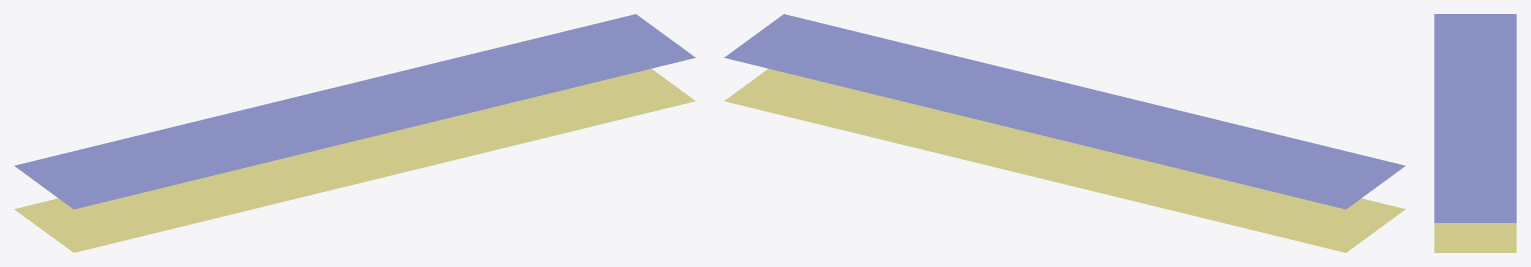
The model's file is In_3x½_Floor.FBX.
3 renders of one model, left to right at view 1: azimuth 30°, elevation 25°; view 2: azimuth 150°, elevation 25°; view 3: azimuth 270°, elevation 25°, orthographic. The views are drawn at different scales.
Visible parts, largest first — view 1: In_3x½_Floor; view 2: In_3x½_Floor; view 3: In_3x½_Floor.
Boxes of the visible parts, x1,y1,x2,y2 form: In_3x½_Floor: (14, 14, 695, 252); In_3x½_Floor: (724, 14, 1405, 252); In_3x½_Floor: (1434, 14, 1516, 252).
Size of the model in its own units: 300 by 20 by 50.
